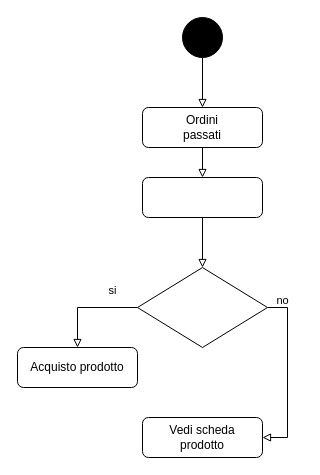
Some shapes in this 320 by 475 pixel diagram are drawn without their labels. Each missing label, with the box of its shape:
acquista di nuovo?: (136, 266, 268, 348)
Selezione prodotto Ordinato: (142, 176, 262, 218)
